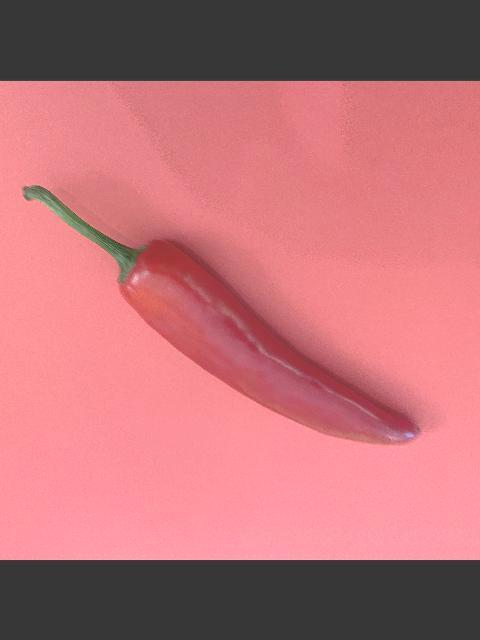chilli: (17, 182, 420, 446)
